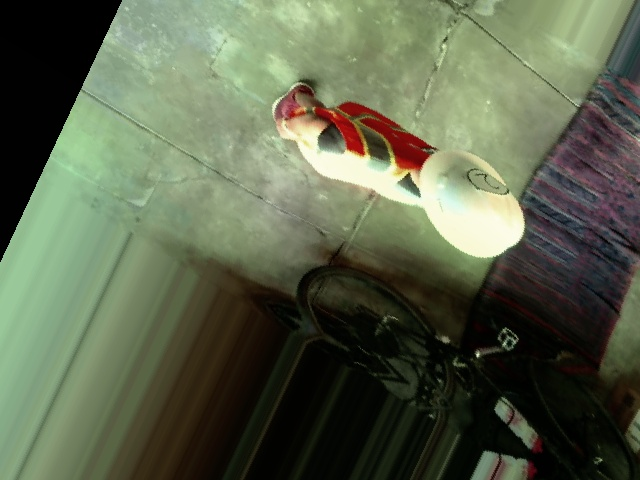two: (464, 163, 511, 201)
